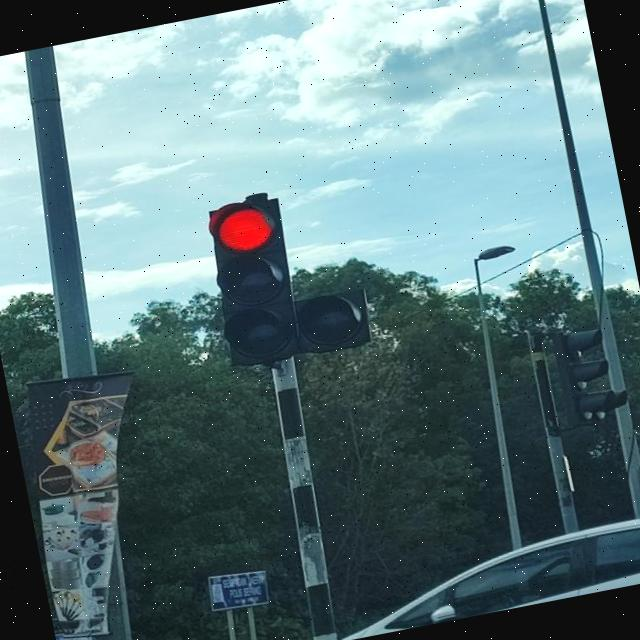red_light: (200, 194, 308, 370)
